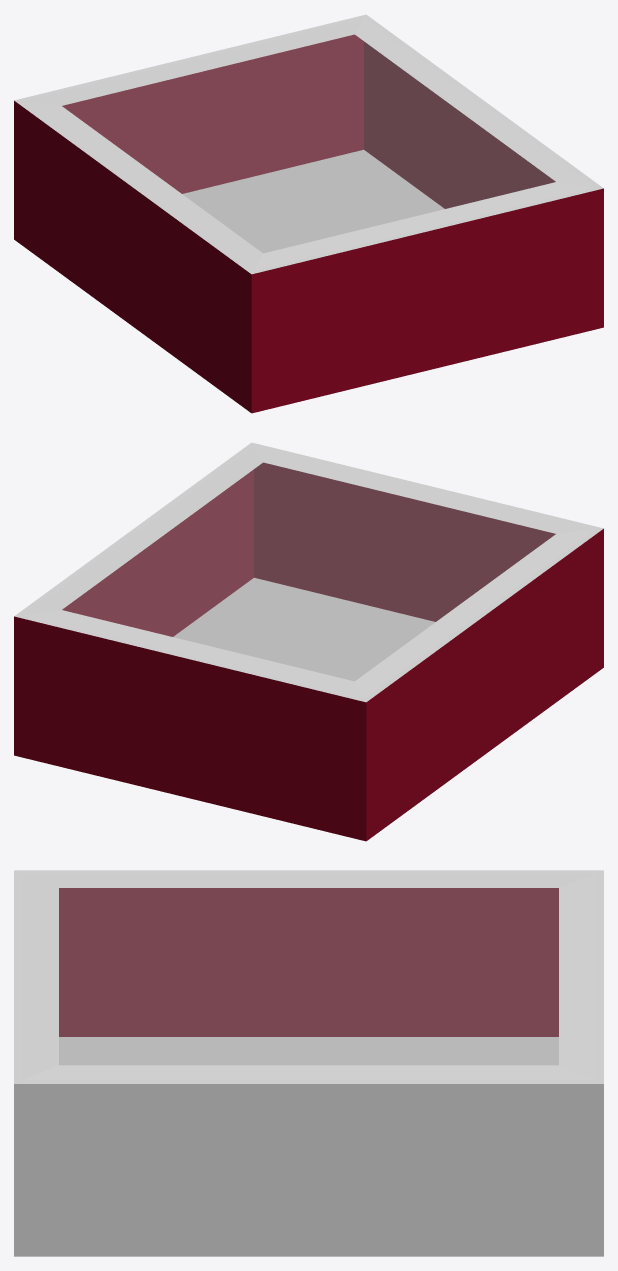
The model's file is PastryBox.fbx.
The picture shows the model from 3 angles, top to bottom: view 1: azimuth 30°, elevation 25°; view 2: azimuth 150°, elevation 25°; view 3: azimuth 270°, elevation 25°; orthographic projection. The views are drawn at different scales.
Visible parts, largest first — view 1: PastryBox; view 2: PastryBox; view 3: PastryBox.
Boxes of the visible parts, <box> form: PastryBox: <box>14,14,603,413</box>; PastryBox: <box>14,442,603,841</box>; PastryBox: <box>14,870,603,1256</box>.
Size of the model in its own units: 24.81 by 9.39 by 28.99.
